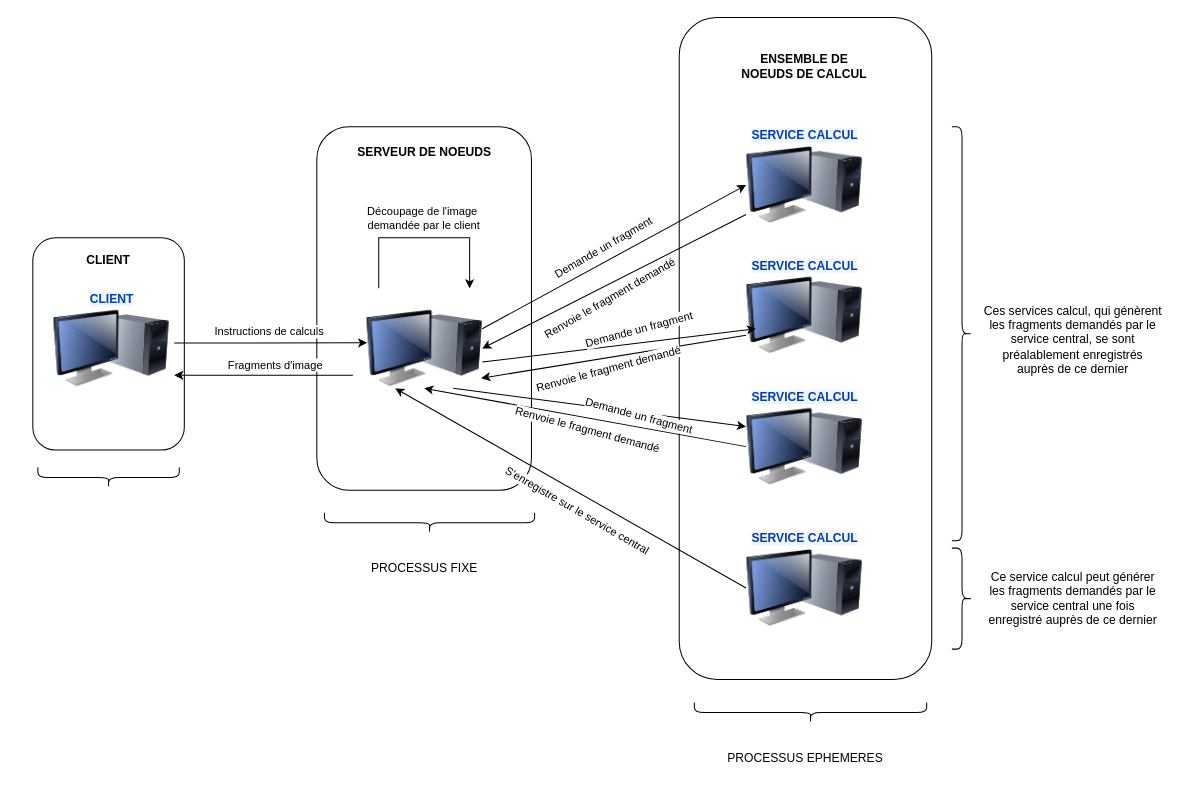
This 1181x791 diagram has some shape labels left out. The shapes that lost their labels are listed below. From the top down, each one's centre as x and y in pixels, then its label:
point (424, 348): SERVICE CENTRAL
point (108, 477): PROCESSUS EPHEMERE
